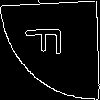F: (25, 25, 71, 57)
